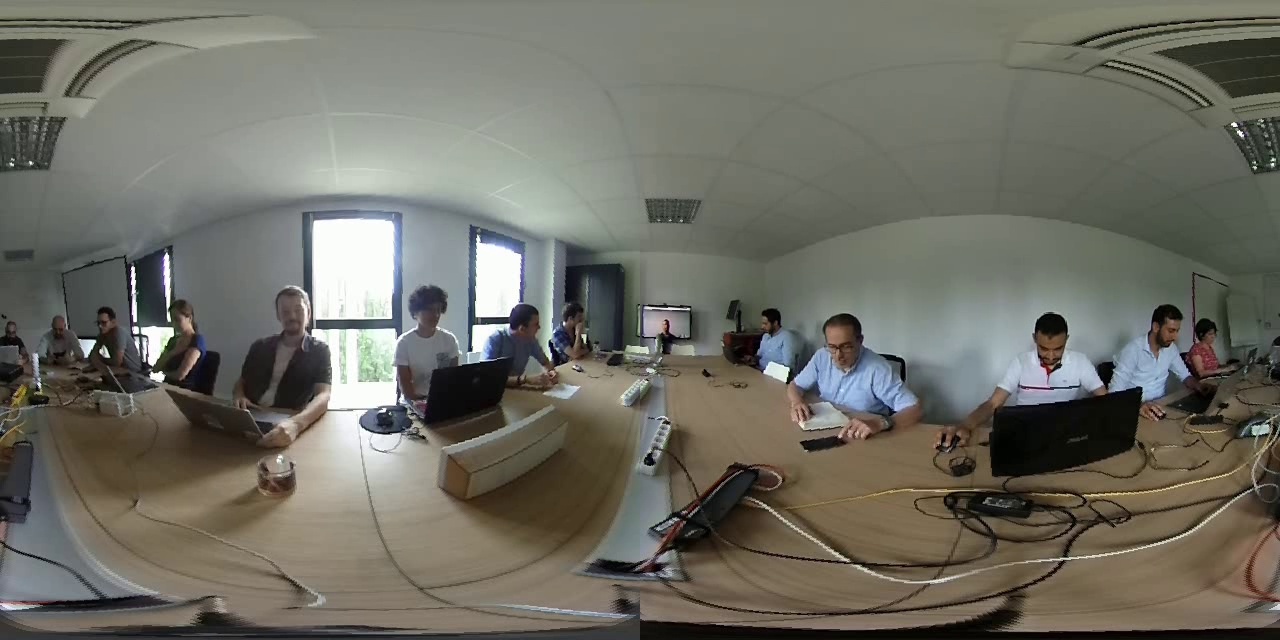person: (232, 280, 336, 420), (802, 301, 905, 421), (989, 302, 1101, 403), (1105, 287, 1185, 391), (149, 291, 218, 384), (481, 287, 549, 380), (392, 277, 466, 362), (1187, 300, 1247, 379), (86, 301, 149, 375), (743, 302, 802, 369), (547, 284, 599, 360), (32, 305, 82, 359), (637, 306, 691, 343), (1, 309, 31, 350)
